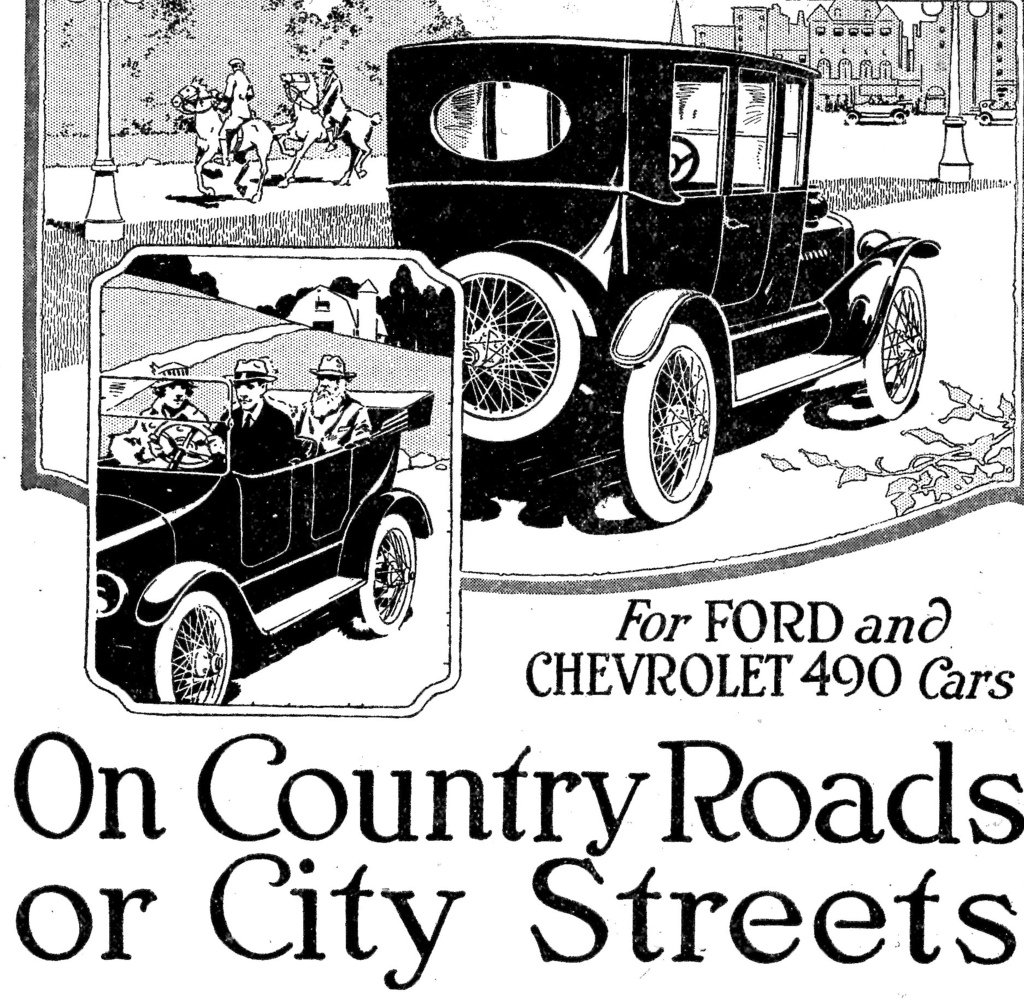Car: (380, 34, 941, 526), (96, 367, 437, 704), (845, 97, 912, 125), (976, 96, 1015, 123)
